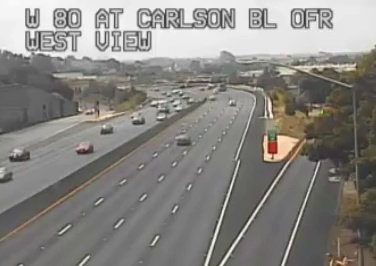car: (175, 134, 189, 145)
